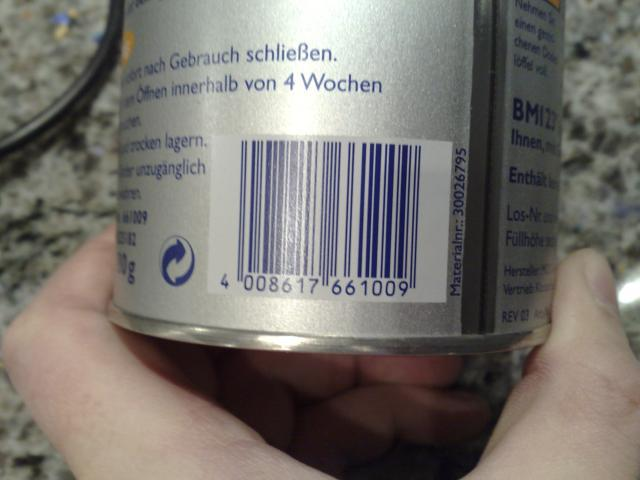Barkod: (236, 140, 418, 277)
